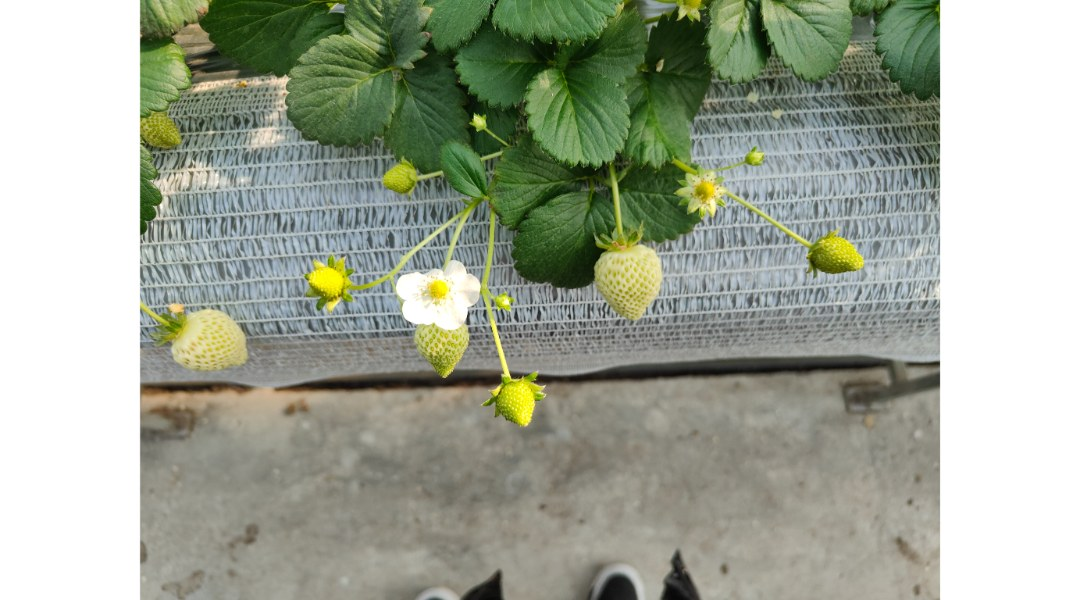berry: (137, 294, 270, 391), (584, 234, 687, 351), (410, 309, 479, 392), (794, 227, 882, 291), (479, 362, 549, 442), (291, 247, 359, 318), (669, 165, 734, 225), (363, 160, 426, 193), (744, 144, 777, 179), (466, 108, 493, 128)
flower: (398, 251, 479, 335)
strain: (724, 189, 813, 247), (481, 289, 520, 381), (398, 215, 456, 265), (606, 156, 635, 243), (440, 223, 468, 276), (482, 204, 497, 285), (350, 273, 387, 298)
